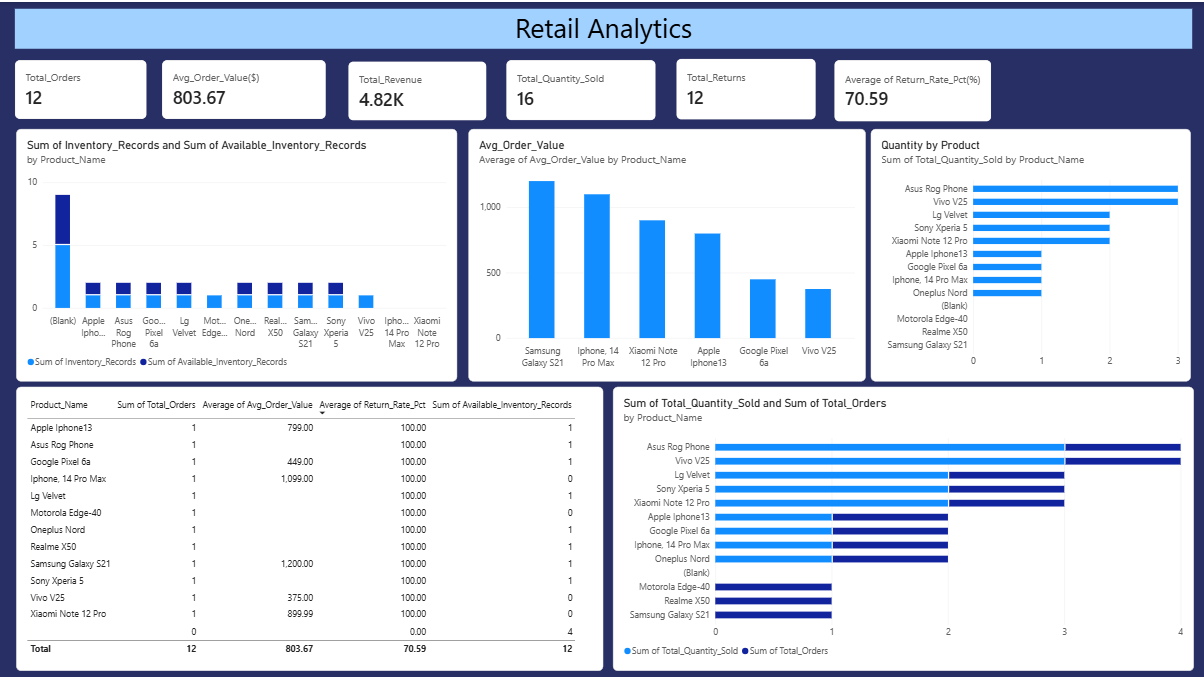

The page's visual inventory and layout, read from the dashboard file:
{"tool":"powerbi","page":{"name":"Page 1","canvas":[1920,1080],"ordinal":0},"visuals":[{"type":"cardVisual","title":"Avg_Order_Value","fields":{"Data":["Avg(gold_product_kpis.Avg_Order_Value)"]},"box":[258,92.8,261.8,94.5],"z":0},{"type":"cardVisual","fields":{"Data":["Sum(gold_product_kpis.Total_Orders)"]},"box":[24,92.8,210.9,94.5],"z":1000},{"type":"cardVisual","fields":{"Data":["Sum(gold_product_kpis.Total_Revenue)"]},"box":[554,94.8,220.6,94.5],"z":2000},{"type":"cardVisual","fields":{"Data":["Sum(gold_product_kpis.Total_Quantity_Sold)"]},"box":[806,92.8,238,96],"z":3000},{"type":"cardVisual","fields":{"Data":["Avg(gold_product_kpis.Return_Rate_Pct)"]},"box":[1328,92.8,250,98],"z":4000},{"type":"barChart","fields":{"Category":["gold_product_kpis.Product_Name"],"Y":["Sum(gold_product_kpis.Total_Quantity_Sold)","Sum(gold_product_kpis.Total_Orders)"]},"box":[975,612.6,925,452.5],"z":5000},{"type":"barChart","title":"Quantity by Product","fields":{"Category":["gold_product_kpis.Product_Name"],"Y":["Sum(gold_product_kpis.Total_Quantity_Sold)"]},"box":[1387.5,202.6,510,402.5],"z":6000},{"type":"columnChart","fields":{"Category":["gold_product_kpis.Product_Name"],"Y":["Sum(gold_product_kpis.Inventory_Records)","Sum(gold_product_kpis.Available_Inventory_Records)"]},"box":[25,202.5,702.5,402.5],"z":7000},{"type":"tableEx","fields":{"Values":["gold_product_kpis.Product_Name","Sum(gold_product_kpis.Total_Orders)","Avg(gold_product_kpis.Avg_Order_Value)","Avg(gold_product_kpis.Return_Rate_Pct)","Sum(gold_product_kpis.Available_Inventory_Records)"]},"box":[25,612.6,935,452.5],"z":8000},{"type":"cardVisual","fields":{"Data":["Sum(gold_product_kpis.Total_Returns)"]},"box":[1078,89.3,222.5,97.5],"z":9000},{"type":"textbox","box":[23.8,11.2,1875,63.8],"z":10000},{"type":"columnChart","title":"Avg_Order_Value","fields":{"Category":["gold_product_kpis.Product_Name"],"Y":["Avg(gold_product_kpis.Avg_Order_Value)"]},"box":[745,202.6,632.5,402.5],"z":11000}]}

Visuals, with their boxes in screenshot pixels (x1, y1, x2, y2), scaled from the page's 1920x1080 canvas onto the 1204x677 screenshot:
"Avg_Order_Value" cardVisual: BBox(162, 58, 326, 117)
cardVisual - Sum(gold_product_kpis.Total_Orders): BBox(15, 58, 147, 117)
cardVisual - Sum(gold_product_kpis.Total_Revenue): BBox(347, 59, 486, 119)
cardVisual - Sum(gold_product_kpis.Total_Quantity_Sold): BBox(505, 58, 655, 118)
cardVisual - Avg(gold_product_kpis.Return_Rate_Pct): BBox(833, 58, 990, 120)
barChart - gold_product_kpis.Product_Name x Sum(gold_product_kpis.Total_Quantity_Sold): BBox(611, 384, 1191, 668)
"Quantity by Product" barChart: BBox(870, 127, 1190, 379)
columnChart - gold_product_kpis.Product_Name x Sum(gold_product_kpis.Inventory_Records): BBox(16, 127, 456, 379)
tableEx - gold_product_kpis.Product_Name x Sum(gold_product_kpis.Total_Orders): BBox(16, 384, 602, 668)
cardVisual - Sum(gold_product_kpis.Total_Returns): BBox(676, 56, 816, 117)
textbox: BBox(15, 7, 1191, 47)
"Avg_Order_Value" columnChart: BBox(467, 127, 864, 379)
